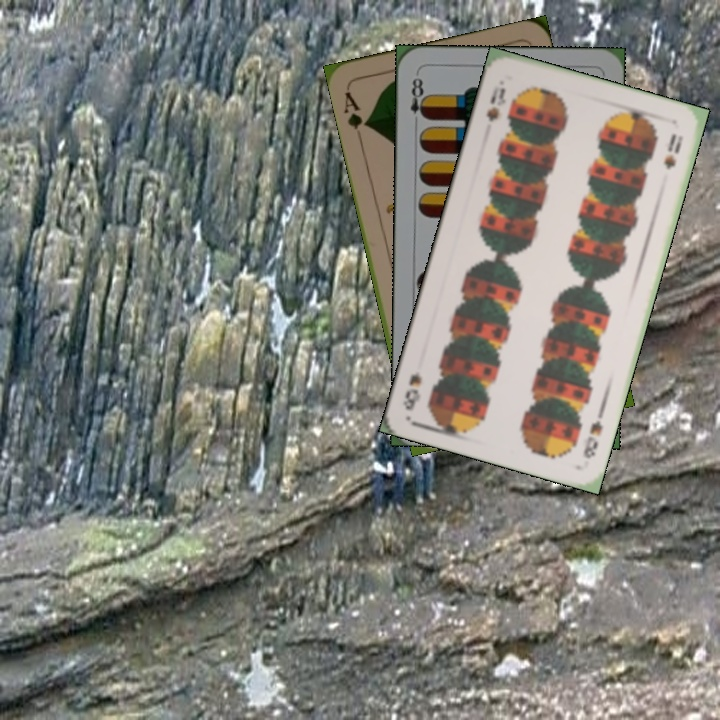E8: (406, 73, 430, 129)
GA: (340, 87, 372, 132)
S8: (579, 416, 605, 461), (482, 82, 509, 124)
